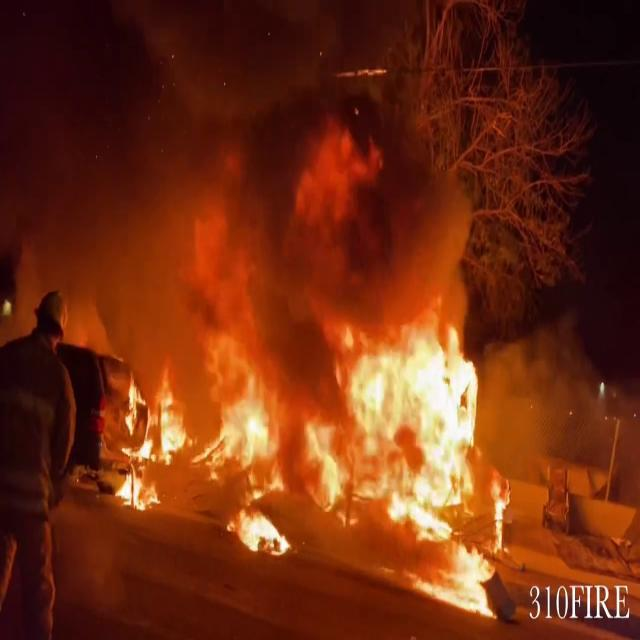Fire: (216, 314, 530, 608), (110, 369, 192, 516)
Smoke: (44, 3, 474, 389)
